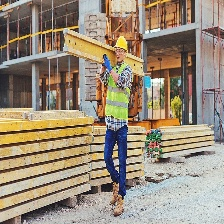helmet: (114, 37, 128, 54)
person: (103, 38, 141, 219)
vest: (103, 63, 133, 125)
